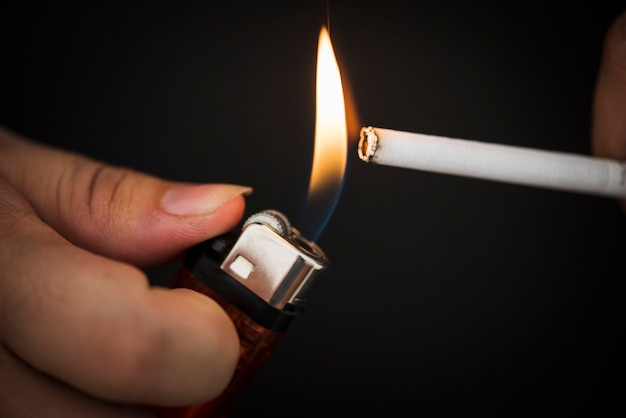cigarette: (359, 121, 626, 199)
